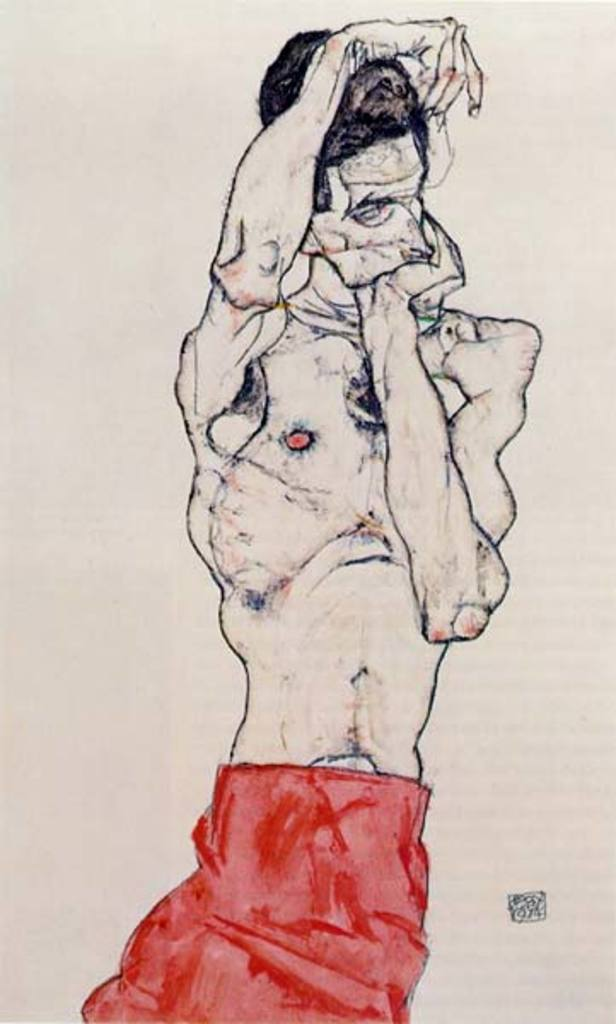face: (320, 139, 424, 313)
